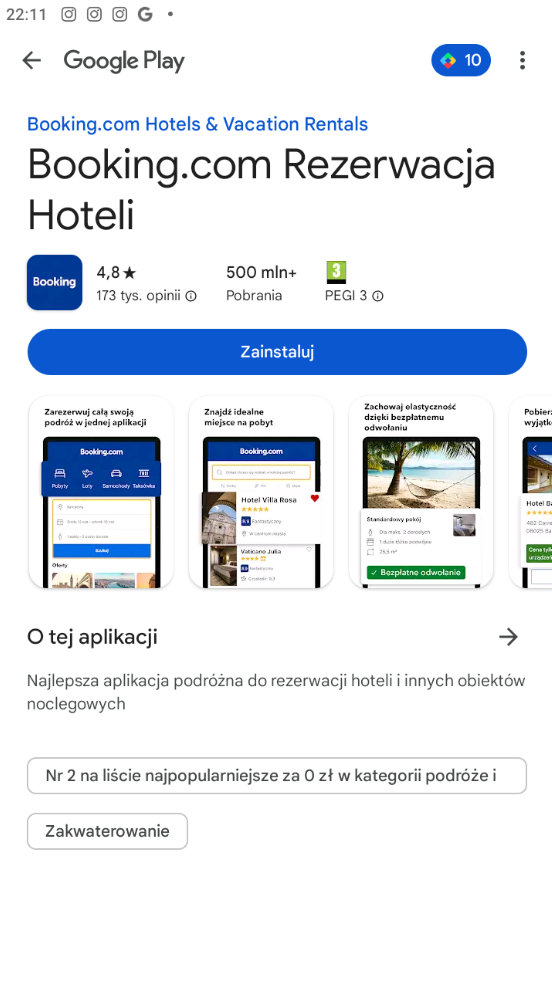store_logo: (57, 40, 197, 79)
